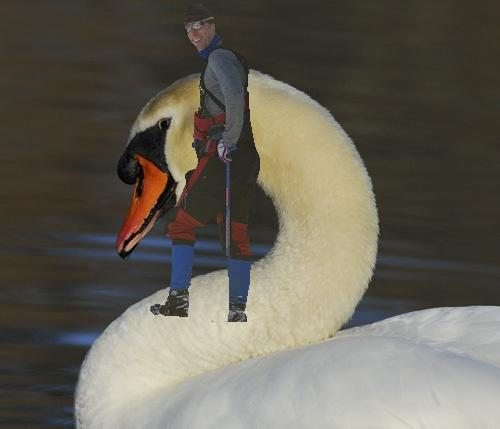tampered: (151, 4, 260, 322)
